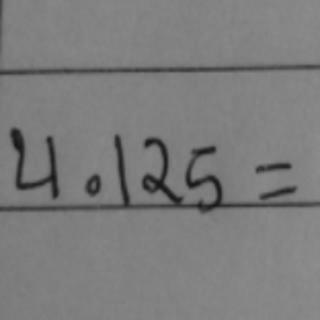.: (80, 170, 105, 197)
1: (112, 131, 130, 208)
2: (141, 134, 184, 203)
4: (11, 123, 60, 204)
5: (184, 145, 223, 214)
